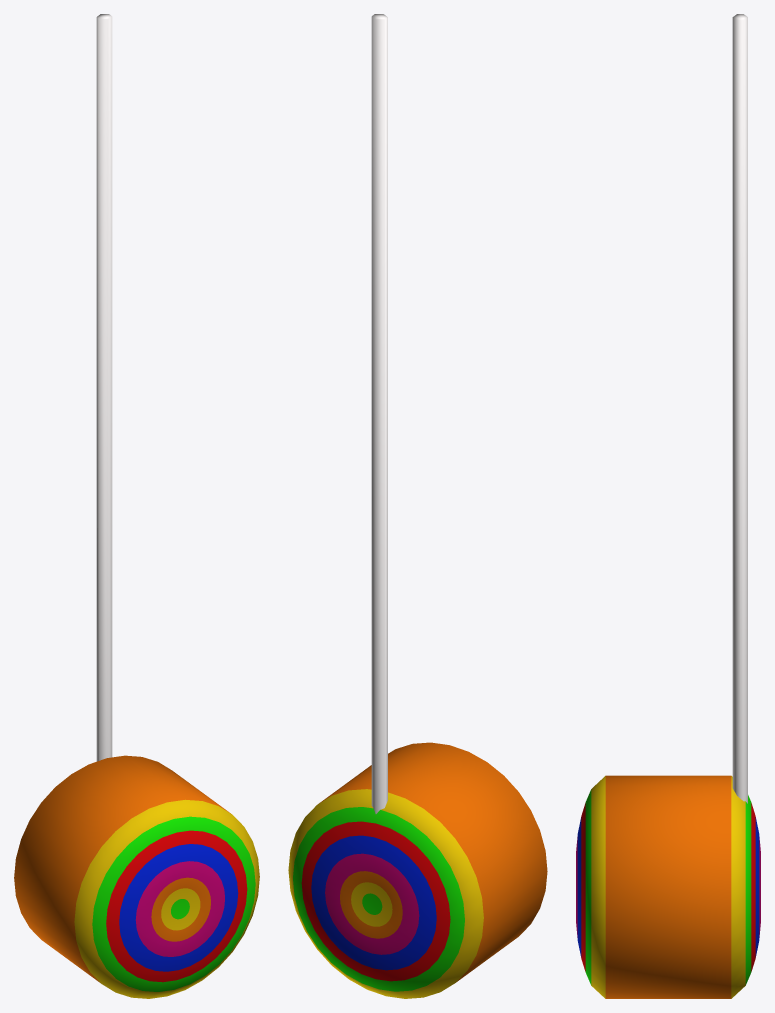
Rendered from Lolly.fbx.
3 views of the same model, side by side, from view 1: azimuth 30°, elevation 25°; view 2: azimuth 150°, elevation 25°; view 3: azimuth 270°, elevation 25° (orthographic). The views are drawn at different scales.
Visible parts, largest first — view 1: Lolly; view 2: Lolly; view 3: Lolly.
Boxes of the visible parts, x1=… form: Lolly: x1=14, y1=14, x2=259, y2=998; Lolly: x1=288, y1=14, x2=547, y2=998; Lolly: x1=576, y1=14, x2=760, y2=998.
Size of the model in its own units: 200 by 960 by 165.
